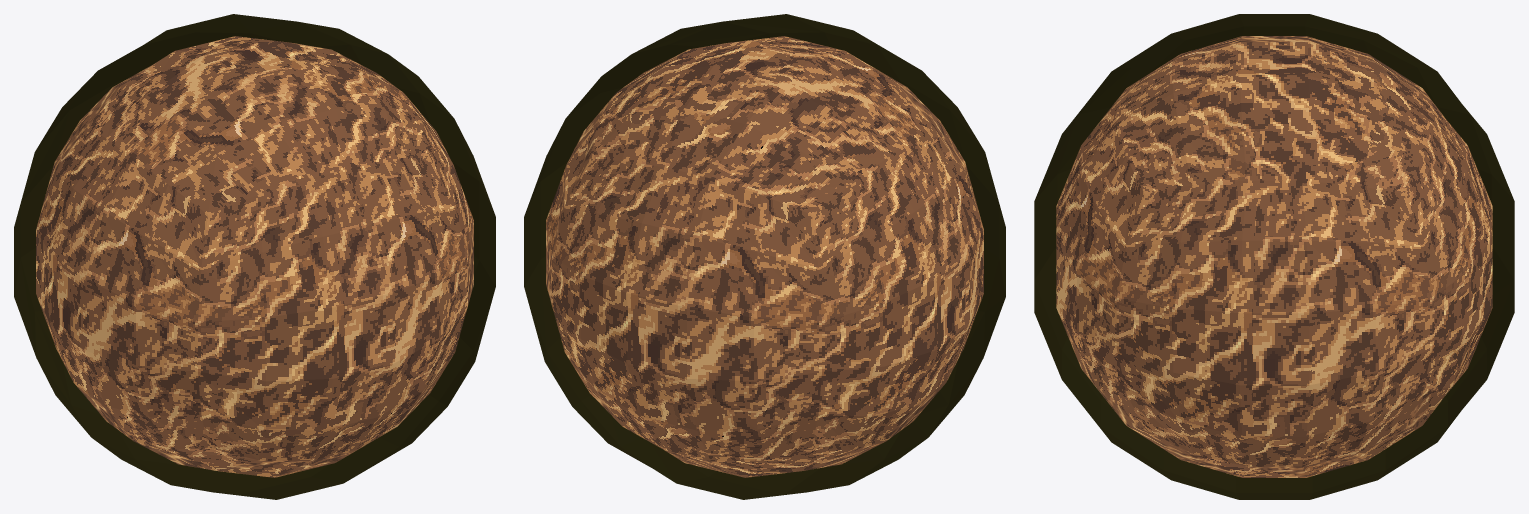
File: planet2_compressed.glb
3 views of the same model, side by side, from view 1: azimuth 30°, elevation 25°; view 2: azimuth 150°, elevation 25°; view 3: azimuth 270°, elevation 25° (orthographic).
Bounding box in the file's own units: 3.7 × 3.7 × 3.7.
1 material, 1 textured.
